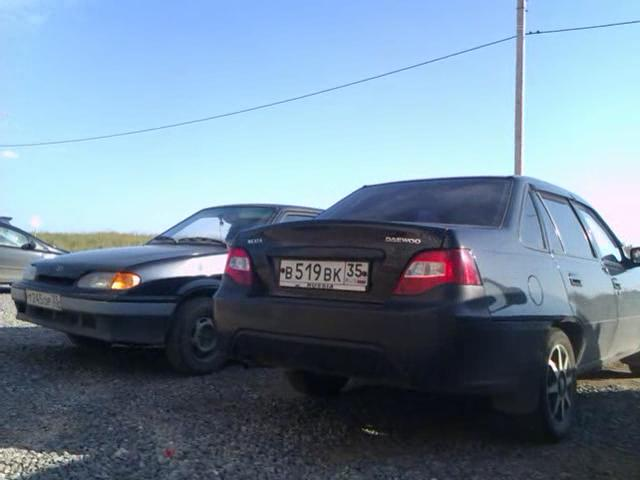car license plate: (276, 258, 373, 296), (21, 287, 65, 313)
